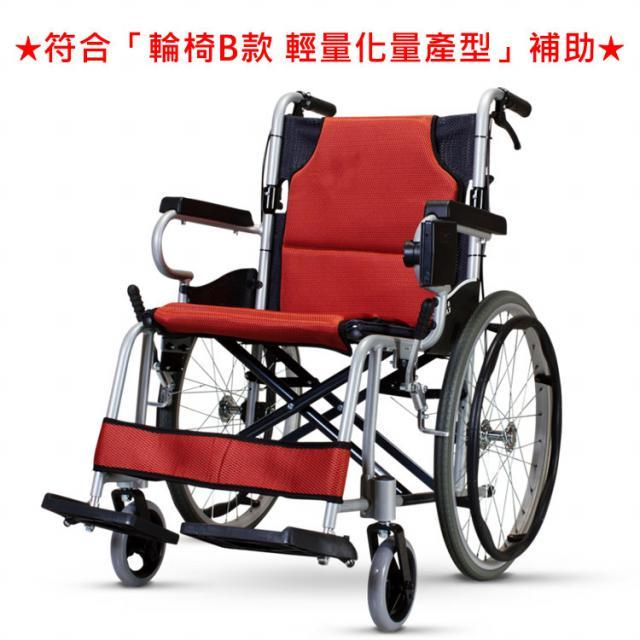wheelchair: (31, 87, 580, 627)
